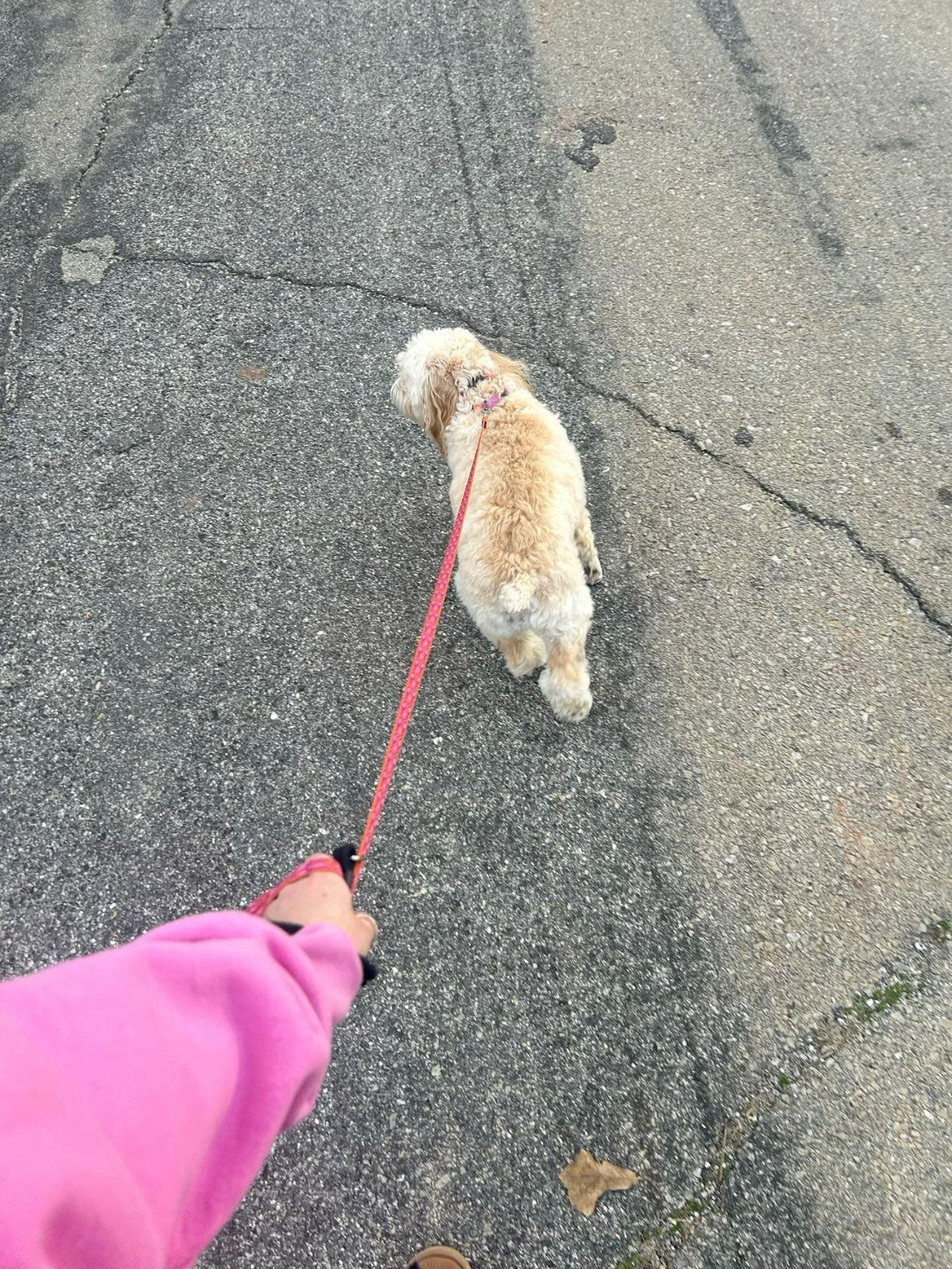adult_dog: (390, 324, 605, 724)
non-dog: (0, 849, 376, 1269)
